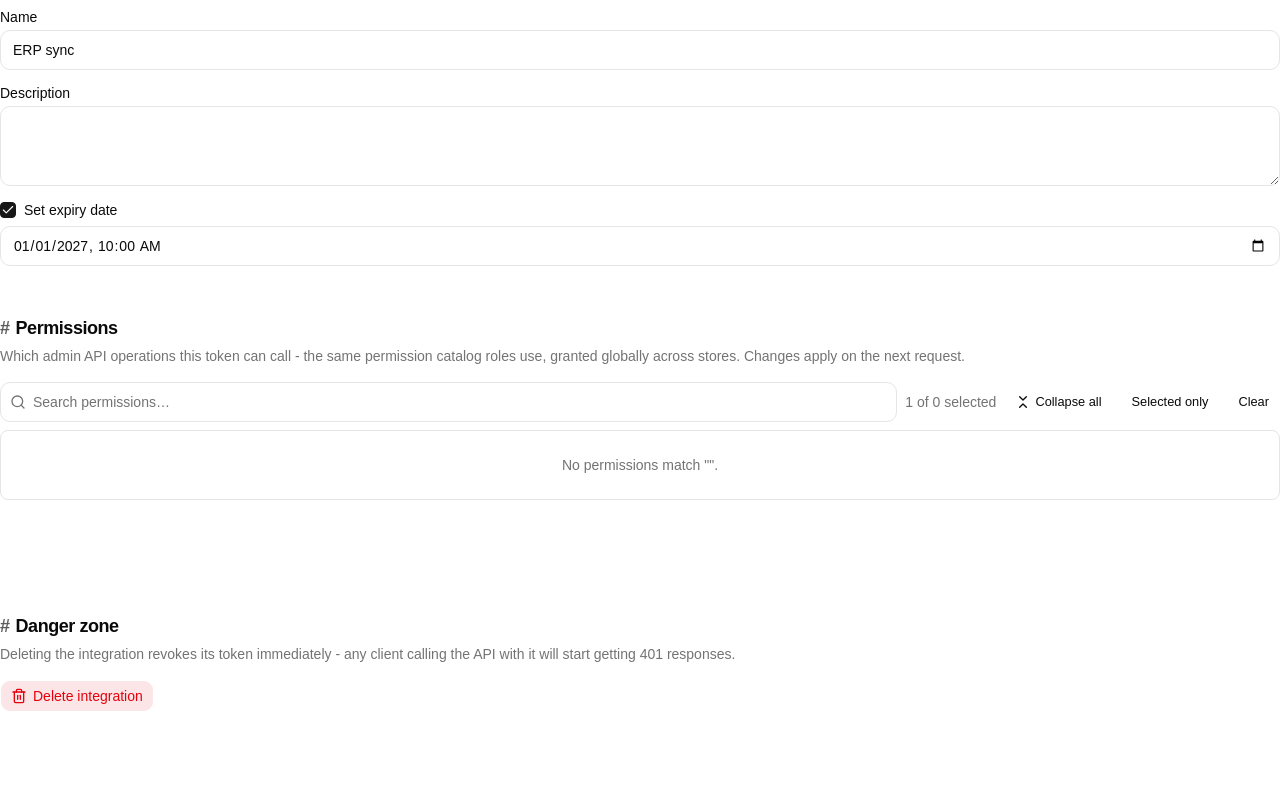
Scenario: IntegrationDetail delete › keeps the dialog open and shows a refused delete
(page scrolled)
Step 1. Click the button "Delete integration" → click(77, 696), box x1=0 y1=680 x2=154 y2=712
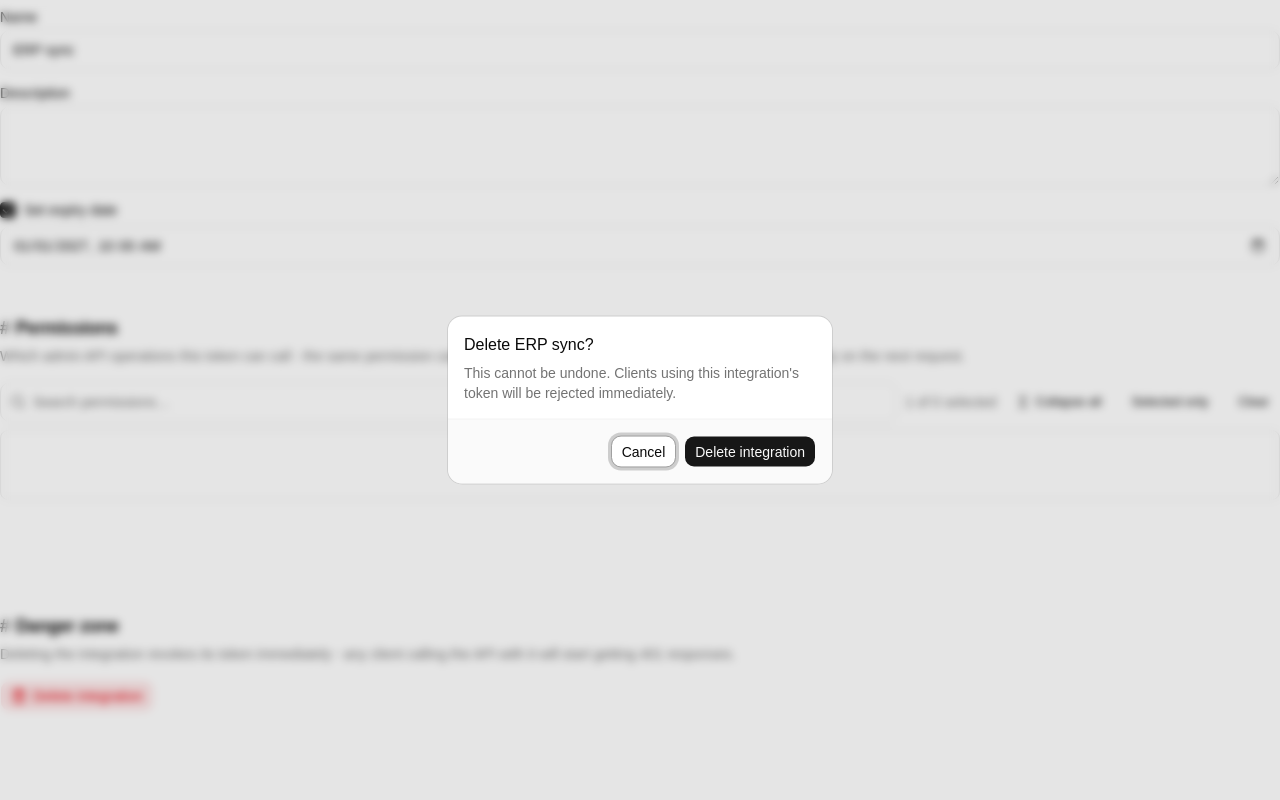
Step 2. Click the button "Delete integration" → click(750, 452), box x1=684 y1=436 x2=816 y2=468
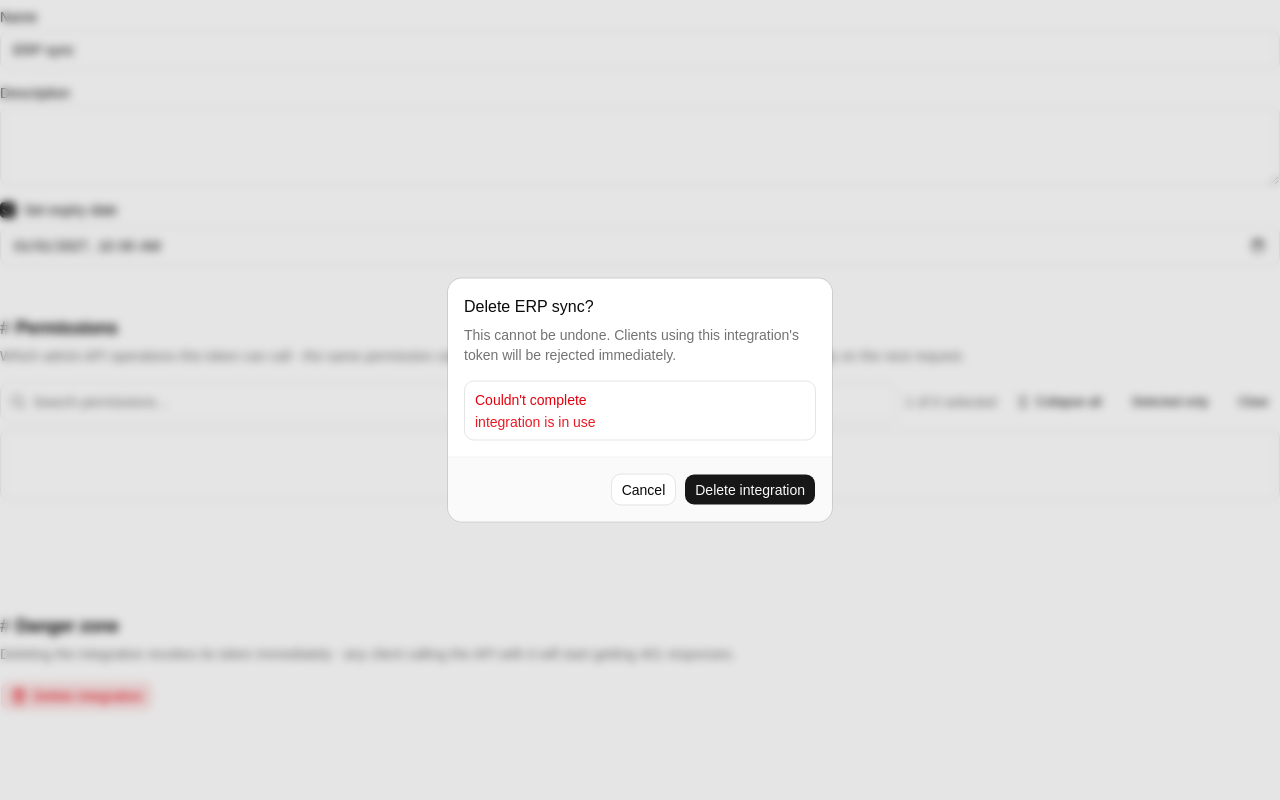
Check: the text "integration is in use" is shown, box x1=475 y1=414 x2=596 y2=430
